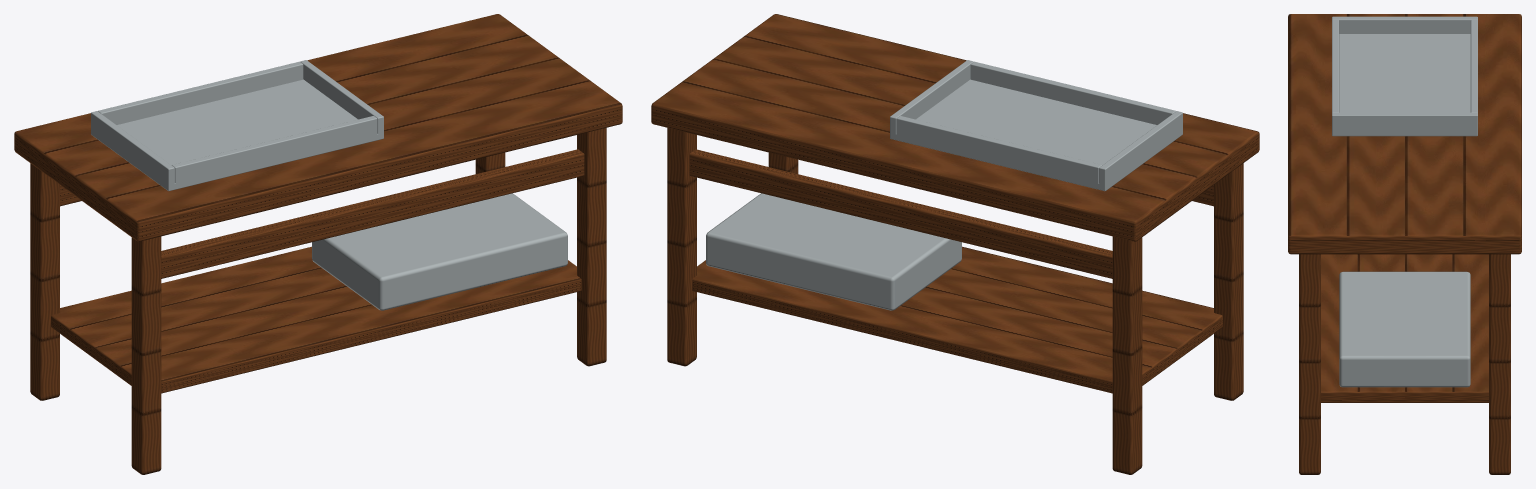
File: salvage-and-repair-workshop-salvage-workbench-d690234f__25438.glb
The picture shows the model from 3 angles, left to right: view 1: azimuth 30°, elevation 25°; view 2: azimuth 150°, elevation 25°; view 3: azimuth 270°, elevation 25°; orthographic projection. The views are drawn at different scales.
Parts seen in each view (by area): view 1: salvage-workbench; view 2: salvage-workbench; view 3: salvage-workbench.
Boxes of the visible parts, x1,y1,x2,y2 form: salvage-workbench: (14, 14, 622, 474); salvage-workbench: (651, 14, 1259, 474); salvage-workbench: (1288, 14, 1521, 474).
Size of the model in its own units: 1.8 by 1 by 0.7999.
Materials: 2 (1 with a texture image).
